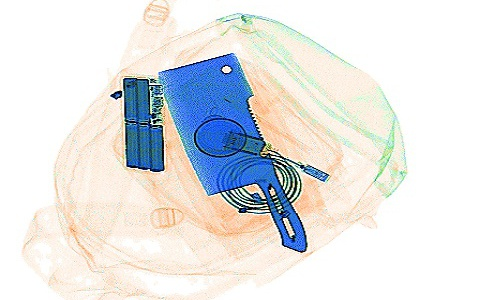knife: (155, 50, 308, 252)
powerbank: (118, 74, 168, 171)
